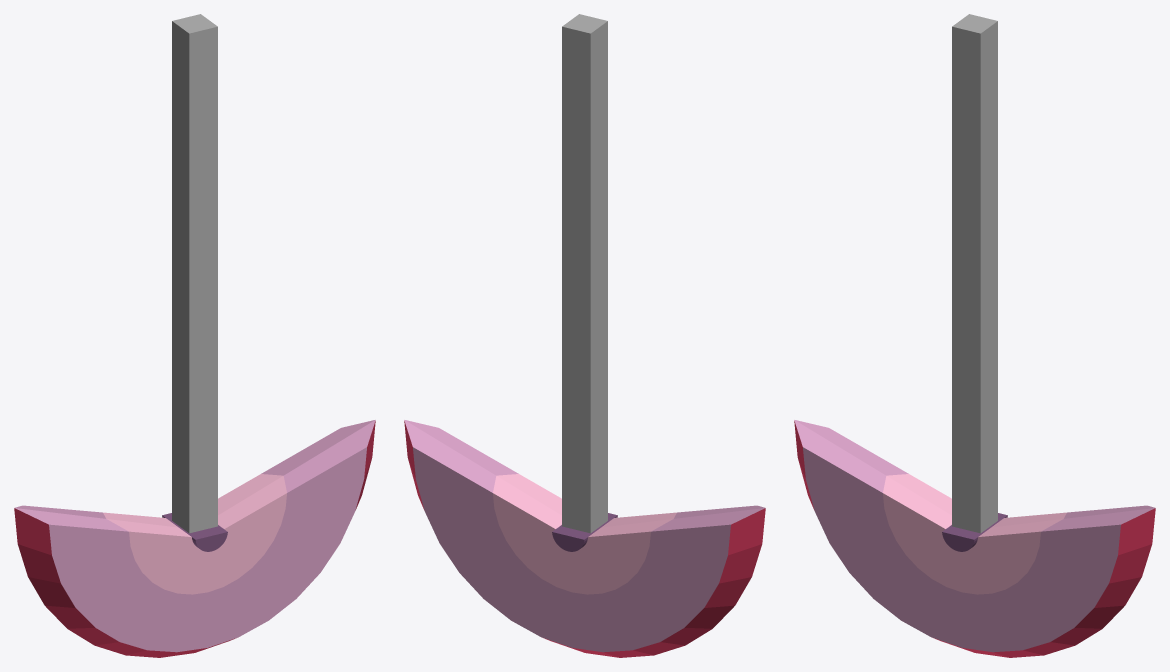
File: Swing_Blade.fbx
3 views of the same model, side by side, from view 1: azimuth 30°, elevation 25°; view 2: azimuth 150°, elevation 25°; view 3: azimuth 330°, elevation 25° (orthographic).
Parts seen in each view (by area): view 1: Swing_Blade_GEO; view 2: Swing_Blade_GEO; view 3: Swing_Blade_GEO.
Part boxes in pixels (x1,y1,x2,y2): Swing_Blade_GEO: (14, 14, 375, 657); Swing_Blade_GEO: (404, 14, 765, 657); Swing_Blade_GEO: (794, 14, 1155, 657).
Bounding box in the file's own units: 1.55 × 2.58 × 0.2495.
